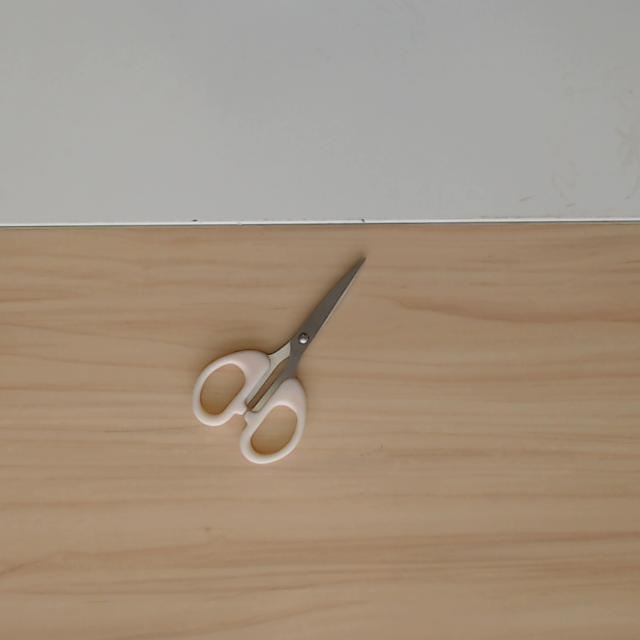Gunting: (176, 219, 365, 475)
